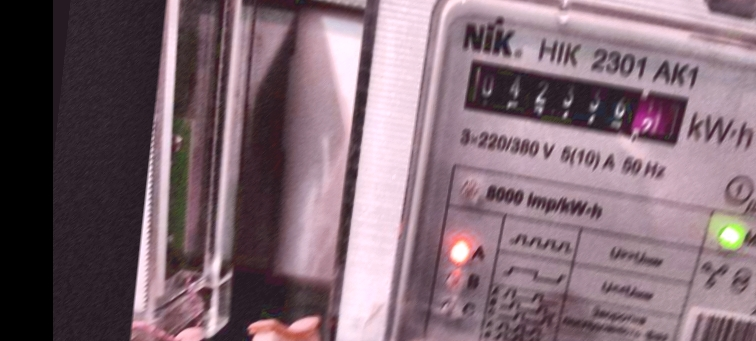0: (481, 69, 497, 99)
2: (532, 77, 553, 105)
3: (559, 80, 578, 110), (588, 84, 605, 113)
4: (507, 73, 525, 101)
6: (612, 92, 630, 121)
screen: (452, 50, 699, 156)
